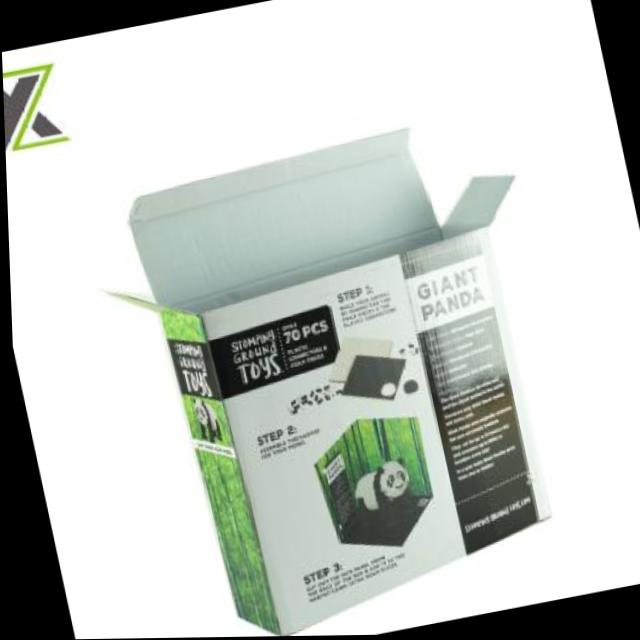box: (73, 87, 601, 639)
